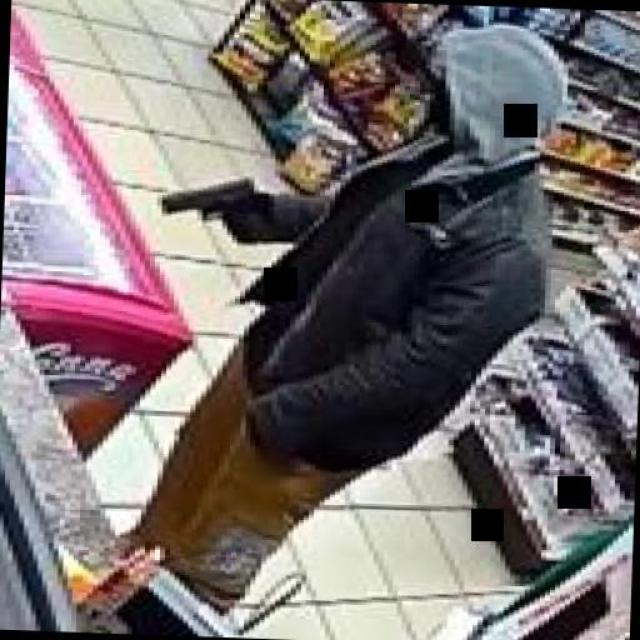gun: (155, 171, 259, 241)
